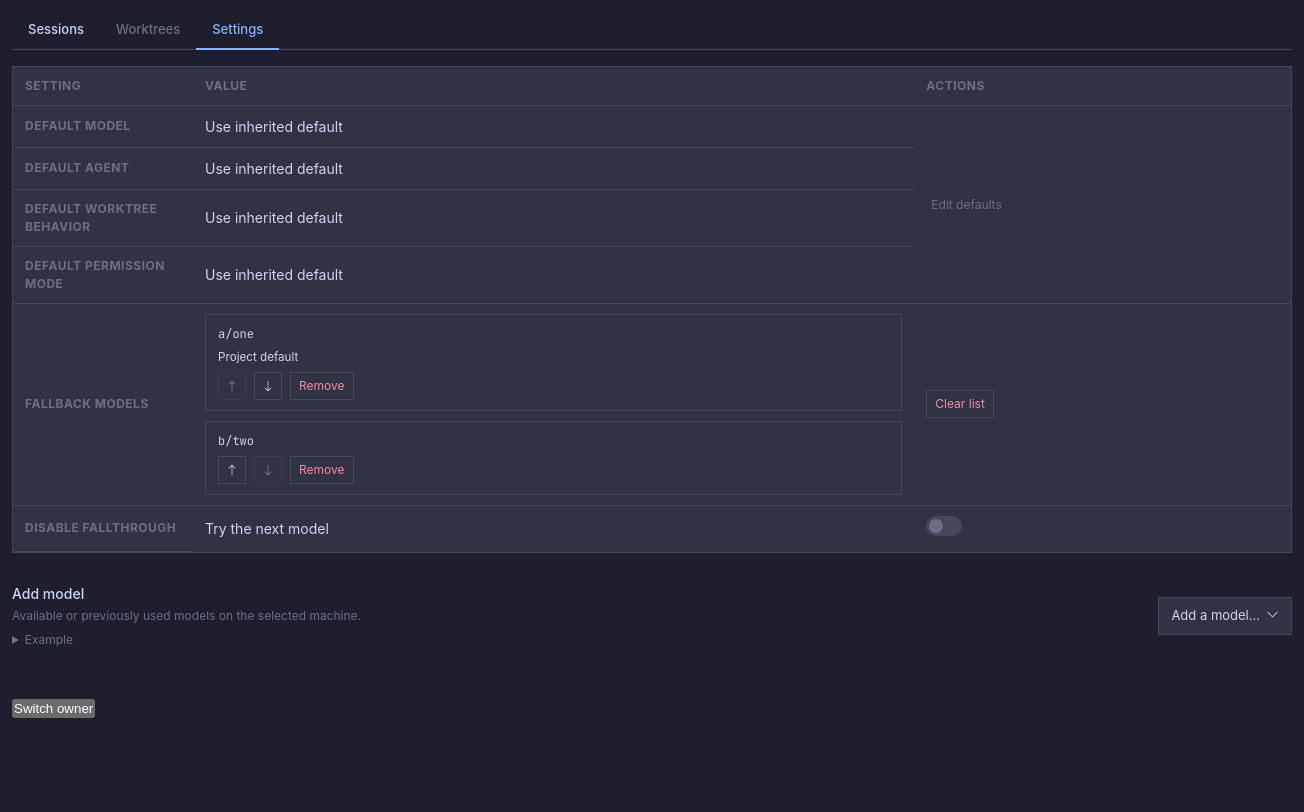
Test: ProjectSettingsView › reverts and reports a rejected save
Click the button named "Move b/two up" at (232, 470), box top-left (218, 456), bottom-right (246, 484)
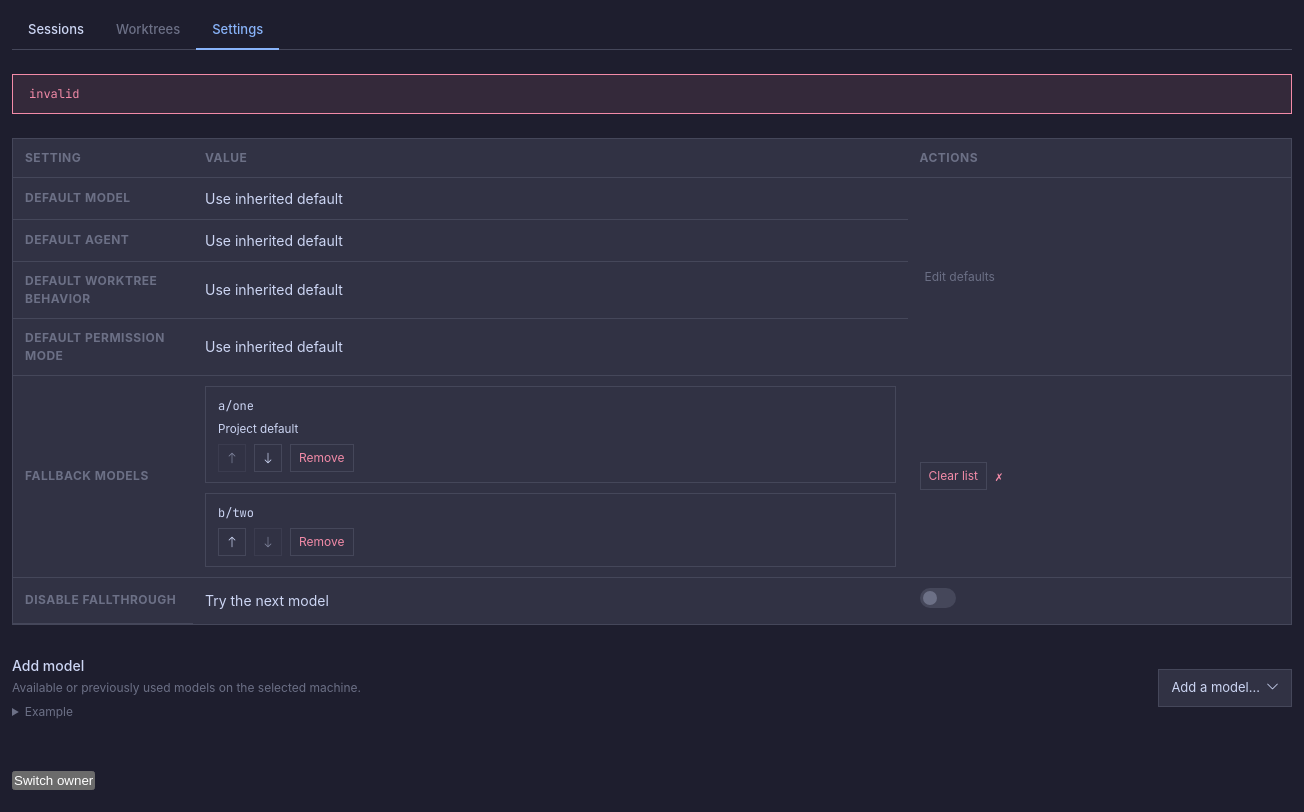
Now the message reads "invalid", box top-left (29, 86), bottom-right (79, 102)
